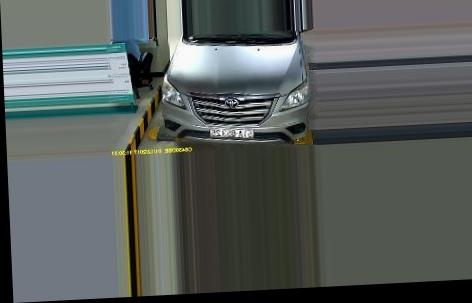License_Plate: (209, 125, 254, 139)
